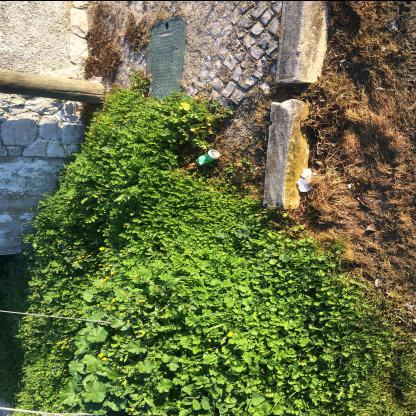metal: (197, 149, 221, 167)
